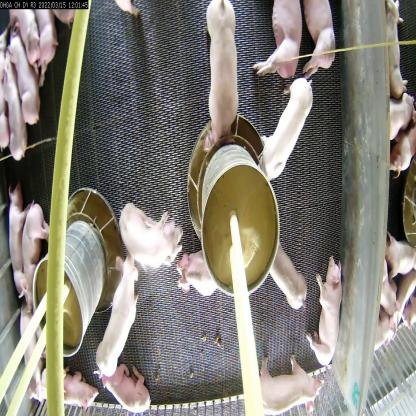Pig: (257, 76, 316, 193), (197, 1, 243, 149), (90, 255, 140, 375), (114, 200, 186, 272), (249, 0, 308, 77), (257, 350, 326, 415), (294, 0, 340, 86), (307, 260, 341, 368), (0, 186, 31, 293), (262, 239, 306, 311), (20, 203, 50, 303), (172, 244, 221, 301), (41, 359, 97, 408), (97, 368, 155, 415)
